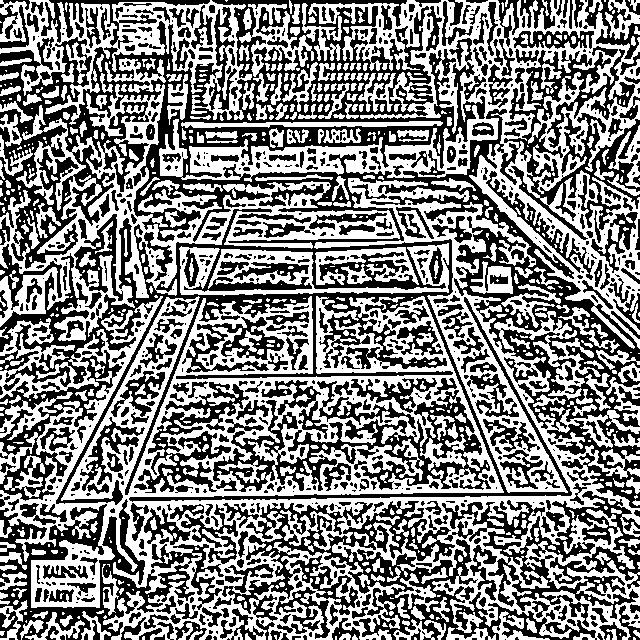left side: (58, 210, 235, 501), (391, 209, 570, 494)
player: (90, 432, 147, 586), (330, 153, 350, 209)
